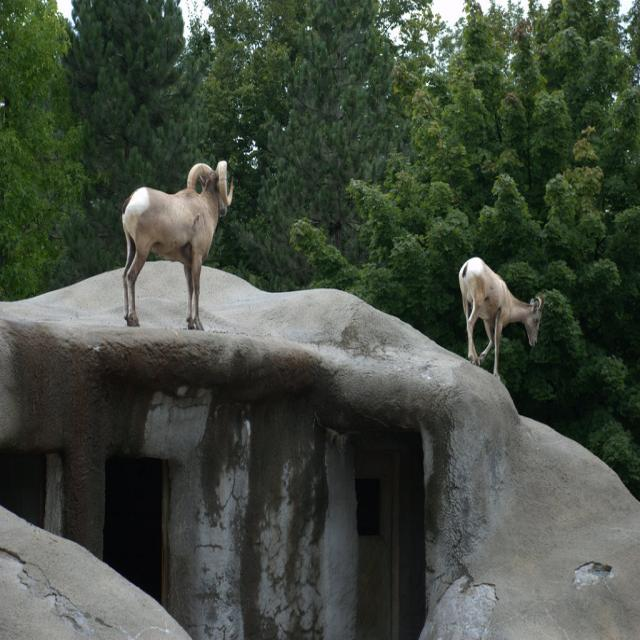Sheep: (123, 163, 233, 332)
